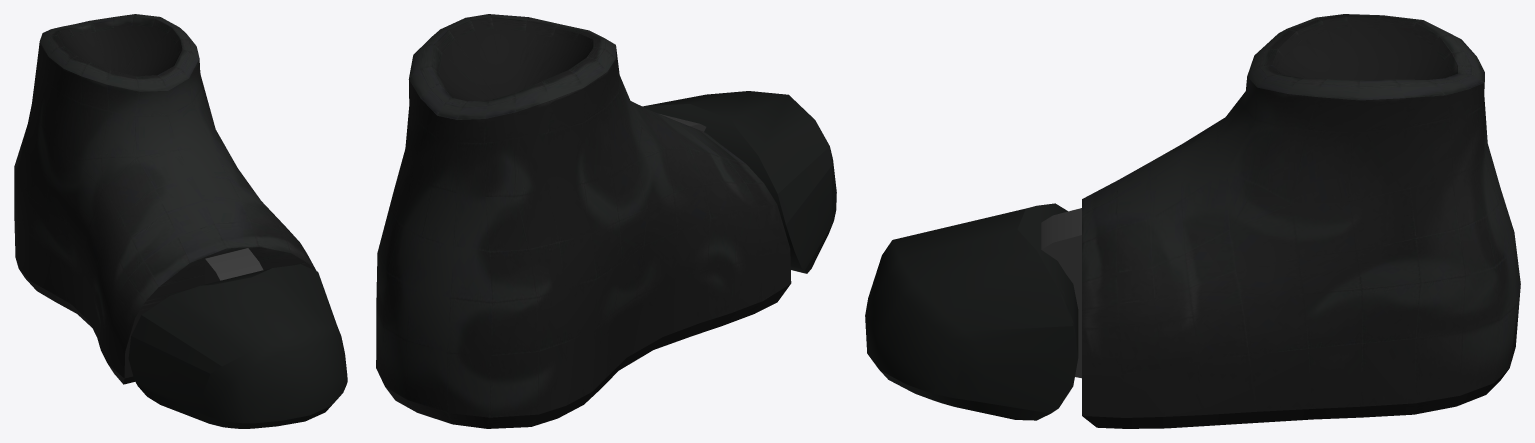
Rendered from footL.fbx.
3 renders of one model, left to right at view 1: azimuth 30°, elevation 25°; view 2: azimuth 150°, elevation 25°; view 3: azimuth 270°, elevation 25°, orthographic. The views are drawn at different scales.
Parts seen in each view (by area): view 1: matte_0.003, matte_1.003; view 2: matte_0.003, matte_1.003; view 3: matte_0.003, matte_1.003.
Part boxes in pixels (x1,y1,x2,y2): matte_0.003: [14, 14, 316, 384]; matte_1.003: [128, 264, 347, 428]; matte_0.003: [376, 14, 791, 428]; matte_1.003: [642, 91, 836, 273]; matte_0.003: [1041, 14, 1520, 428]; matte_1.003: [865, 203, 1078, 420].
Size of the model in its own units: 343 by 725 by 389.
1 material, 1 textured.
